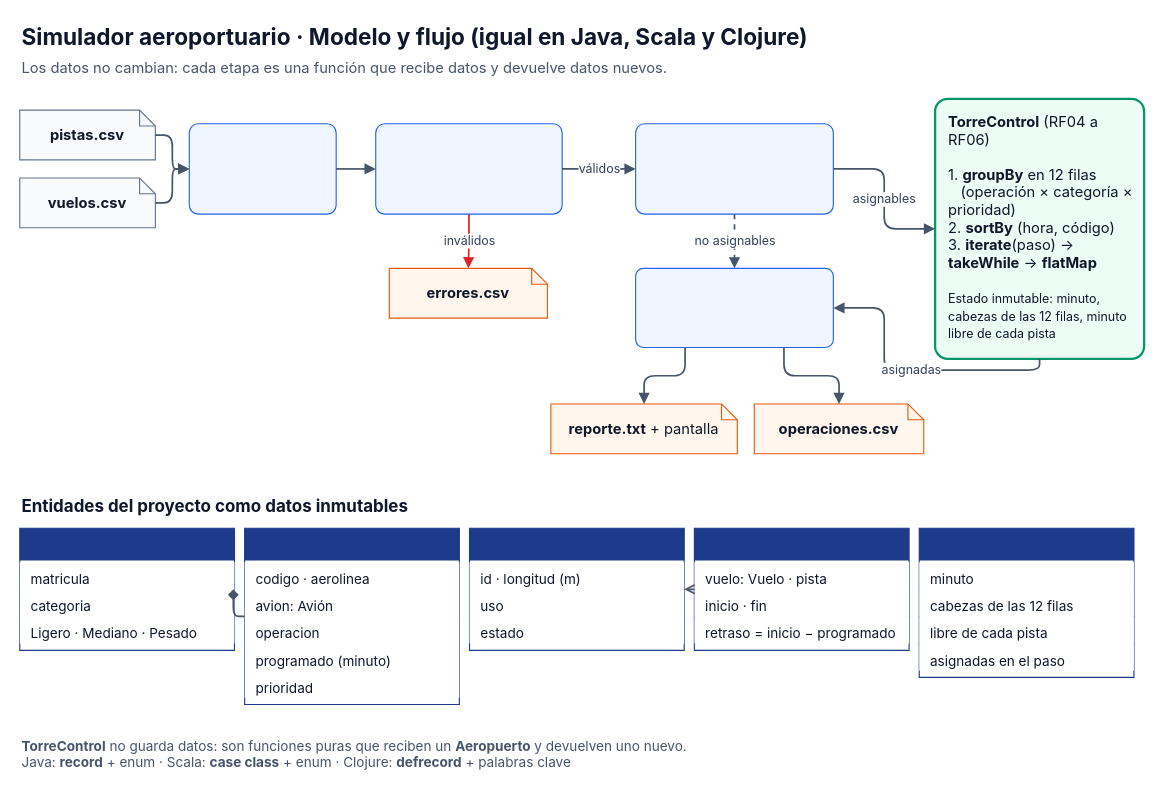
Some shapes in this 1165 by 796 pixel diagram are drawn without their labels. The shapes that lost their labels are listed below. From the top down, each one's box as (x1, y1, x2, y2) in pixels, then its label:
(188, 123, 336, 214): Lectura líneas → campos map · filter · split
(375, 123, 562, 214): Validación (RF03) reduce con los códigos válidos Resultado / Either / {:error}
(634, 123, 833, 214): Compatibilidad (RN03 y RN09) filter: asignables / no asignables
(634, 267, 833, 347): Reportes (RF07 a RF14) groupBy · map · reduce · sortBy · take
(19, 527, 234, 650): Avión
(468, 527, 684, 650): Pista
(693, 527, 909, 650): OperacionAsignada
(918, 527, 1134, 677): Aeropuerto (estado)
(244, 527, 459, 705): Vuelo
